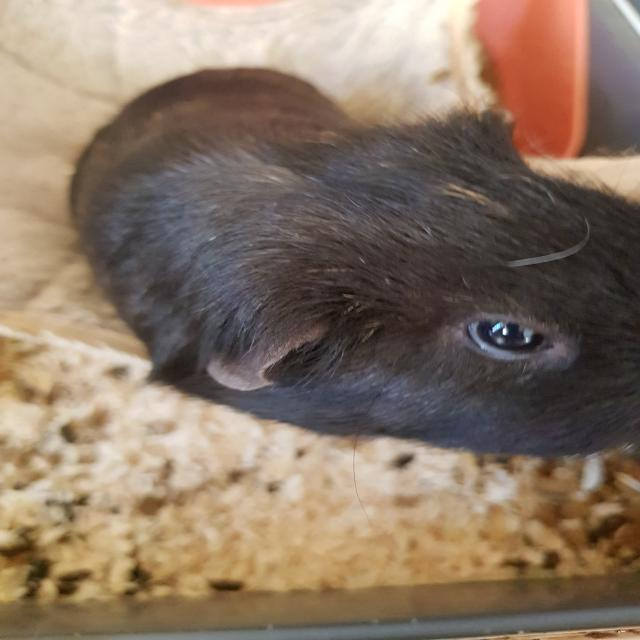guinea pig: (66, 65, 640, 459)
